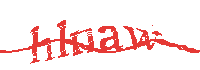a: (98, 25, 124, 51)
h: (29, 26, 55, 63)
l: (56, 19, 70, 57)
n: (70, 29, 96, 56)
w: (124, 23, 162, 51)
